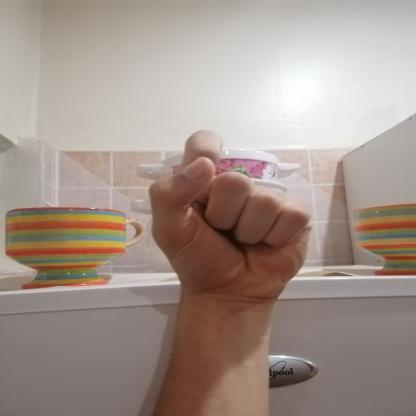FAA: (133, 119, 330, 316)
